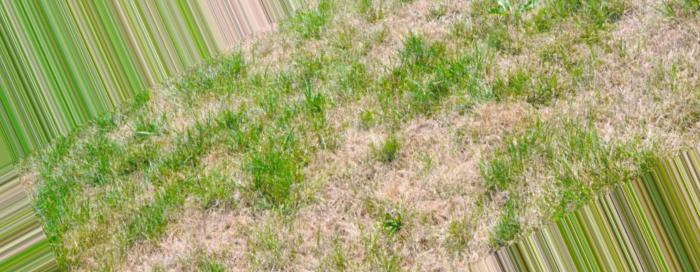patch: (310, 166, 457, 264), (588, 32, 681, 147), (170, 213, 287, 267), (426, 111, 539, 153)
